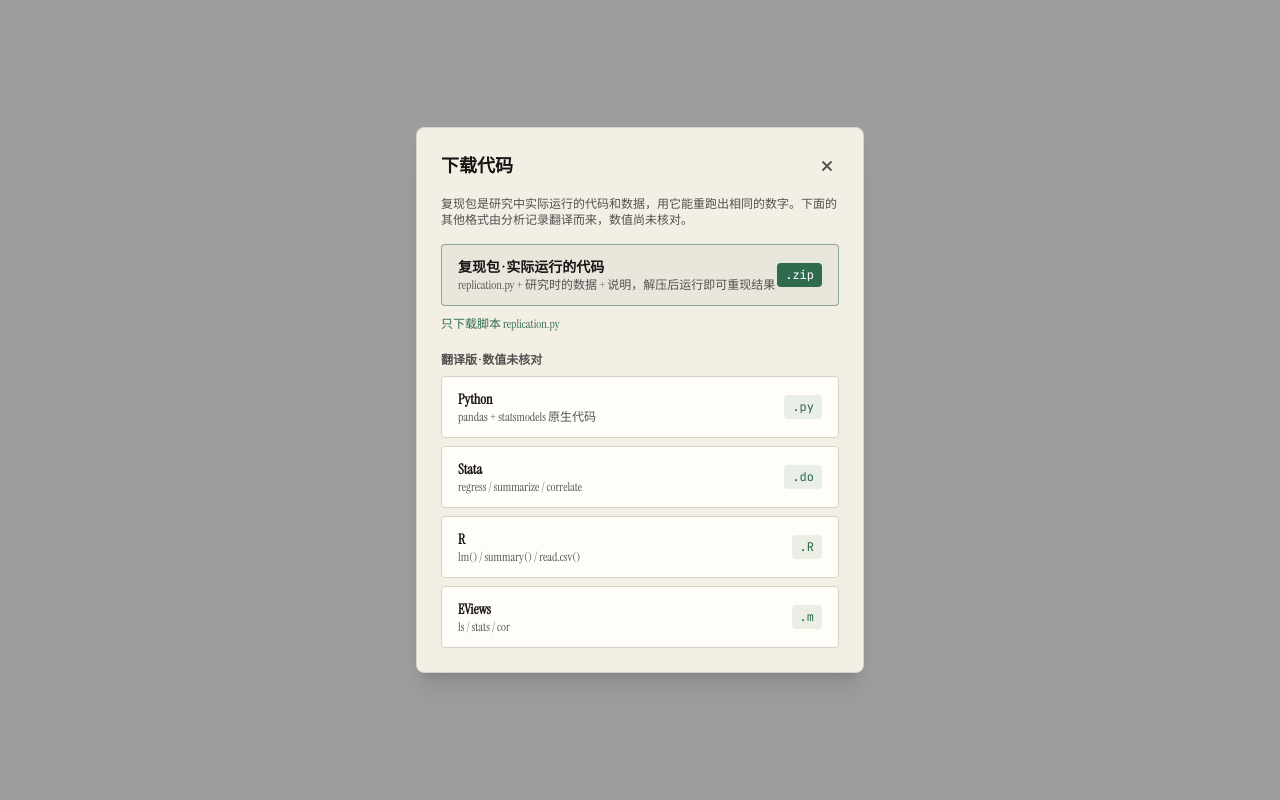
Test: CodeExportDialog 代码导出对话框 › 没有设定运行（404）时说明原因，不静默
The image size is (1280, 800).
What coordinates should you click on to do the following:
click the button with test id "replication-package-button"
I would click on:
 (640, 275)
Its box is [441, 244, 839, 306].
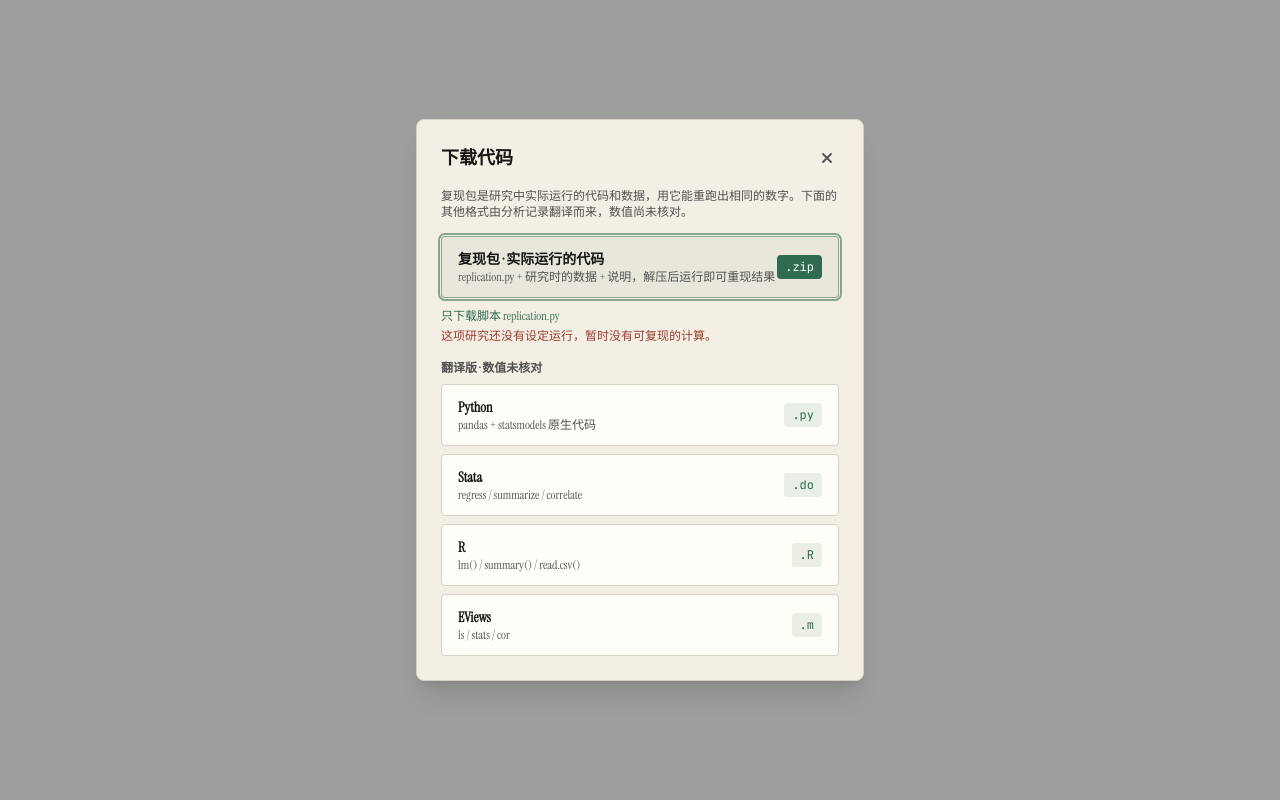
Expected: the message with test id "replication-error" reads "这项研究还没有设定运行，暂时没有可复现的计算。", [441, 328, 717, 344]
